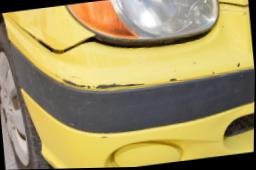Bumper: (5, 4, 255, 92)
